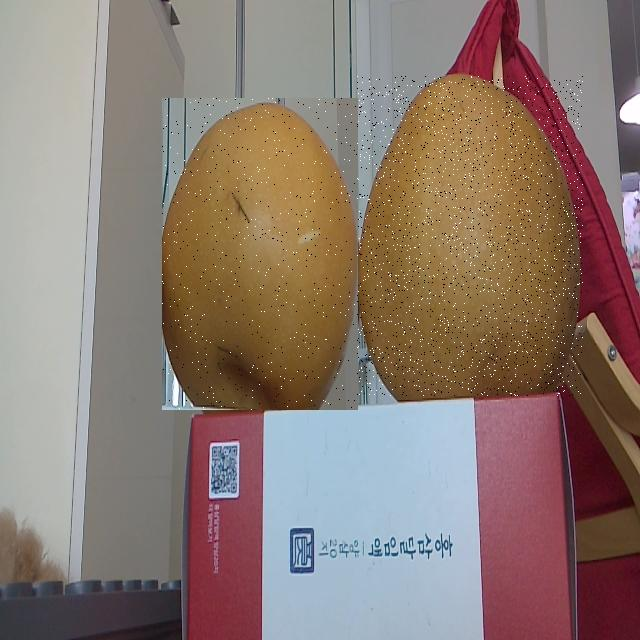pear: (357, 76, 583, 396), (162, 98, 358, 410)
